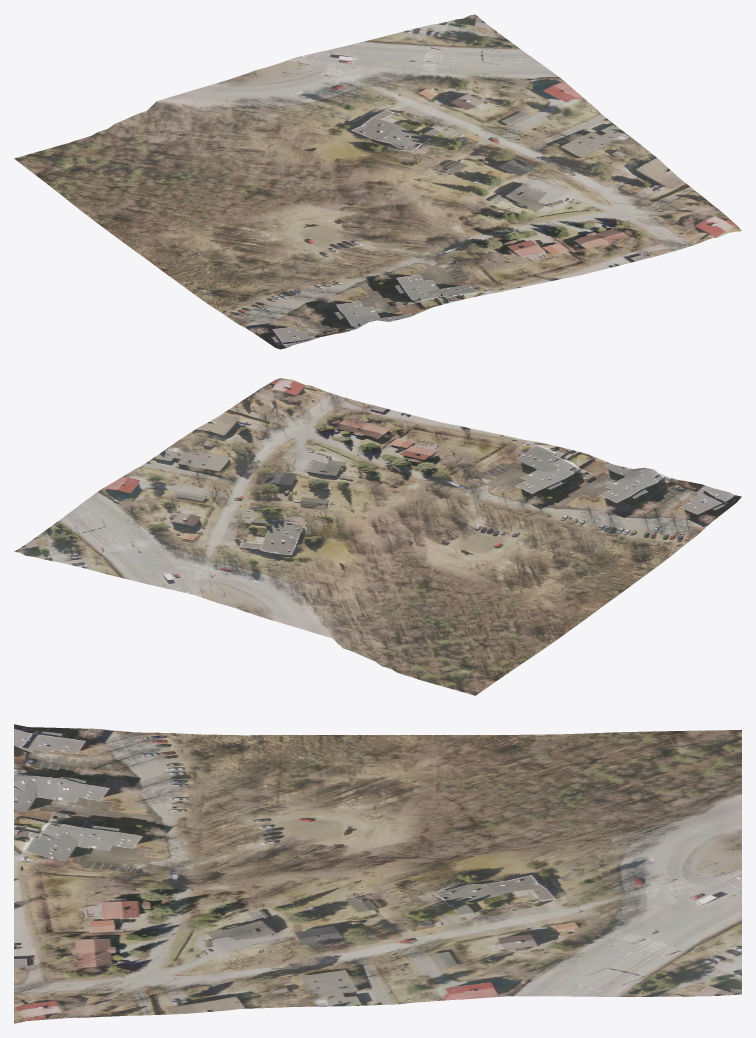
File: CM_Terrain_24490458_6819589.fbx
3 views of the same model, one above another, from view 1: azimuth 30°, elevation 25°; view 2: azimuth 150°, elevation 25°; view 3: azimuth 270°, elevation 25° (orthographic). The views are drawn at different scales.
Visible parts, largest first — view 1: CM_Terrain_24490458_6819589_LOD0; view 2: CM_Terrain_24490458_6819589_LOD0; view 3: CM_Terrain_24490458_6819589_LOD0.
Part boxes in pixels (<box>): CM_Terrain_24490458_6819589_LOD0: <box>14,14,741,349</box>; CM_Terrain_24490458_6819589_LOD0: <box>14,378,741,695</box>; CM_Terrain_24490458_6819589_LOD0: <box>14,724,741,1023</box>.
Size of what is drawn, in the model's own units: 205 by 15.35 by 205.
